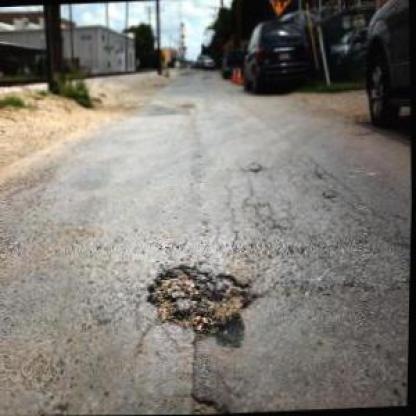pothole: (146, 261, 258, 338), (190, 388, 233, 415)
